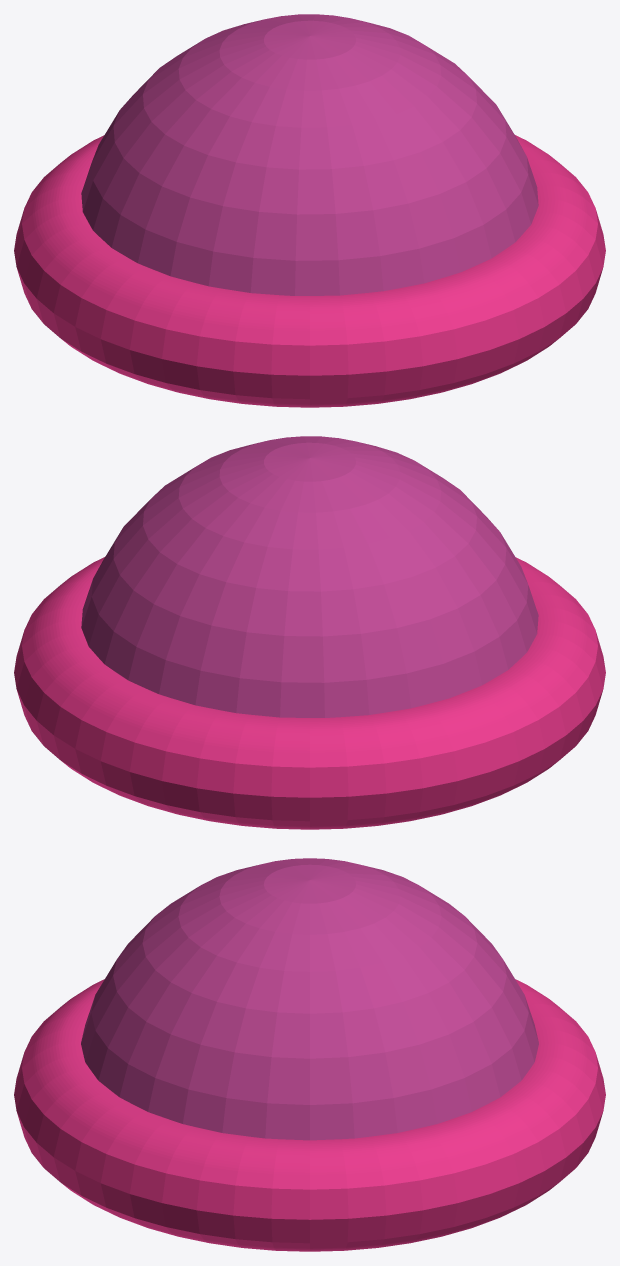
File: Bubble_Down.fbx
3 views of the same model, one above another, from view 1: azimuth 30°, elevation 25°; view 2: azimuth 150°, elevation 25°; view 3: azimuth 270°, elevation 25° (orthographic).
Visible parts, largest first — view 1: Sphere, Torus; view 2: Sphere, Torus; view 3: Sphere, Torus.
Part boxes in pixels (box(x1,y1,x2,y2)): Sphere: box(81, 14, 538, 295); Torus: box(14, 135, 605, 407); Sphere: box(81, 436, 538, 717); Torus: box(14, 557, 605, 829); Sphere: box(81, 858, 538, 1140); Torus: box(14, 979, 605, 1251).
Bounding box in the file's own units: 250 × 124 × 250.
